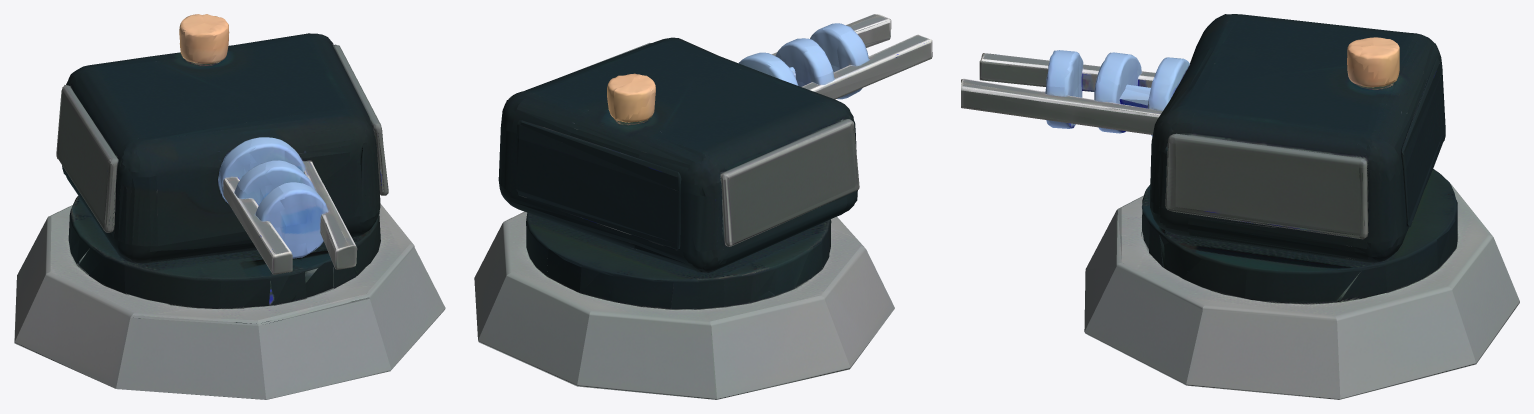
Rendered from plasma-cannon.glb.
3 renders of one model, left to right at view 1: azimuth 30°, elevation 25°; view 2: azimuth 150°, elevation 25°; view 3: azimuth 270°, elevation 25°, orthographic. The views are drawn at different scales.
Size of the model in its own units: 0.8203 by 0.5254 by 1.
1 material, 1 textured.
